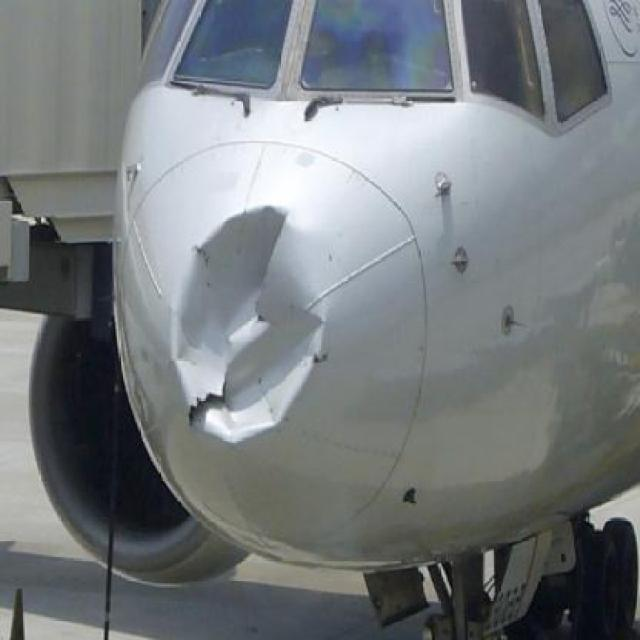crack: (189, 373, 229, 422)
dent: (166, 204, 325, 450)
